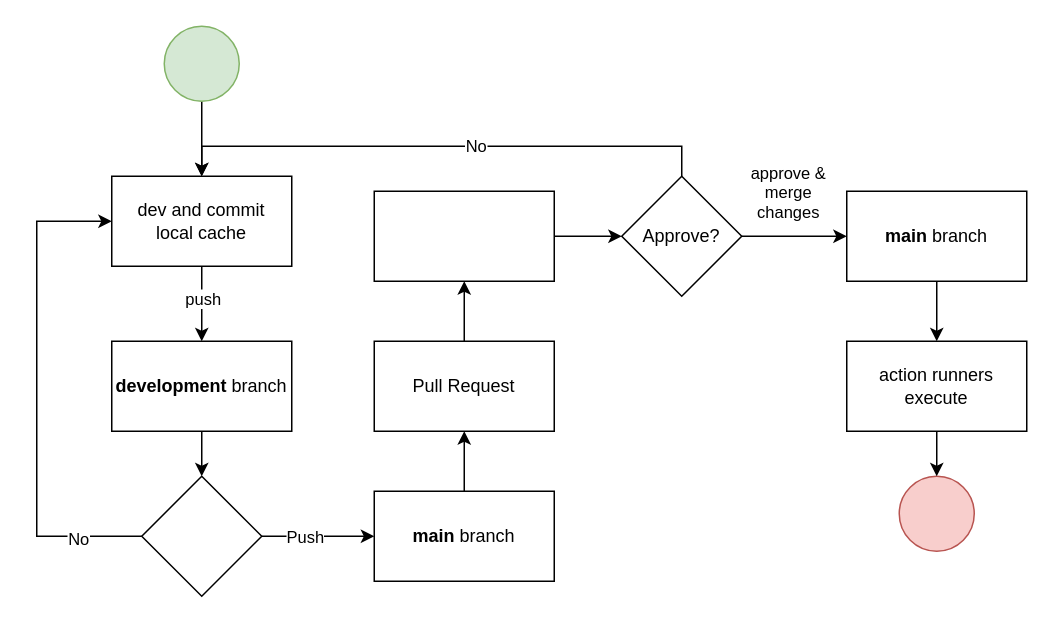
Image size: 1053x623. Some labels were removed from this diagram. The shapes that lost their labels are listed below. From the top down, each one's centre as x and y in pixels, then its label:
At point 201,63: "Start".
At point 463,235: "Peer Review".
At point 936,513: "End".
At point 201,535: "Promote Ready?".
